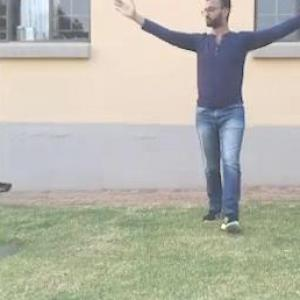takeoff: (106, 0, 299, 233)
